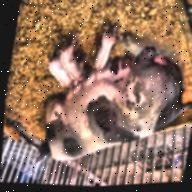boar: (31, 9, 192, 188)
